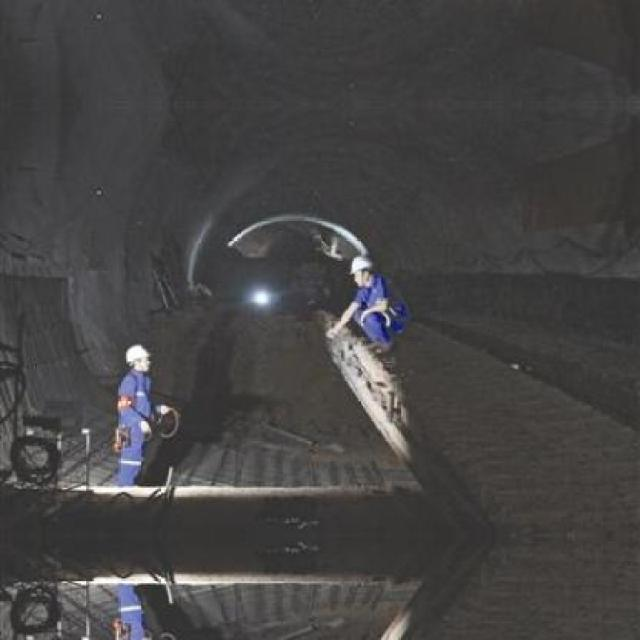helmet: (347, 249, 376, 289), (121, 339, 150, 372)
